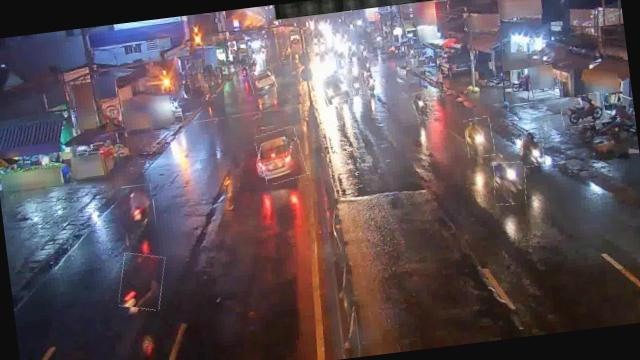Bike: (114, 250, 168, 312), (120, 184, 158, 246), (492, 160, 528, 206), (559, 92, 606, 127), (462, 116, 494, 158), (519, 130, 545, 167), (410, 90, 432, 122), (367, 72, 384, 93), (349, 72, 364, 94)
Car: (255, 126, 306, 184), (320, 71, 350, 104), (247, 68, 276, 94)
